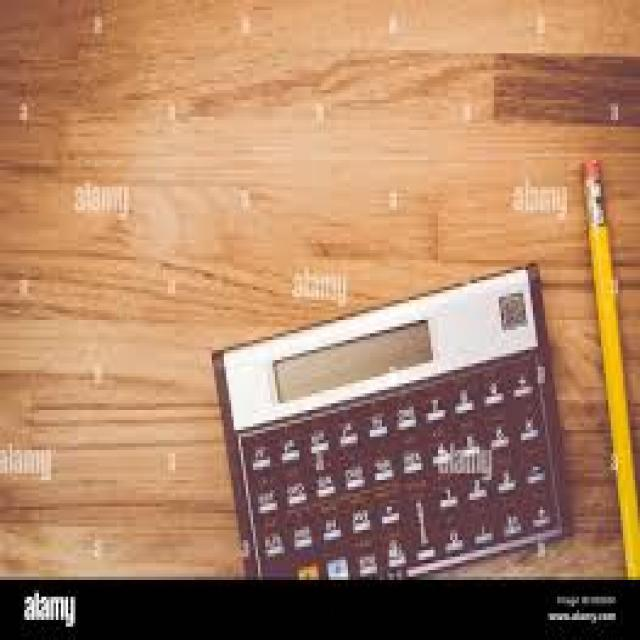Calculator: (200, 256, 578, 586)
